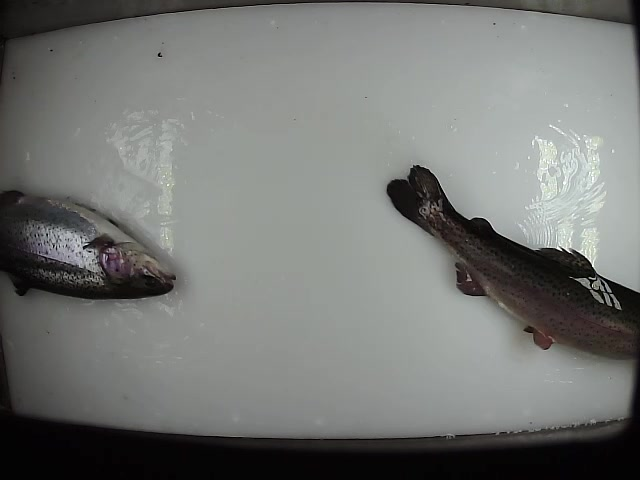fish: (384, 163, 640, 364), (1, 188, 178, 303)
